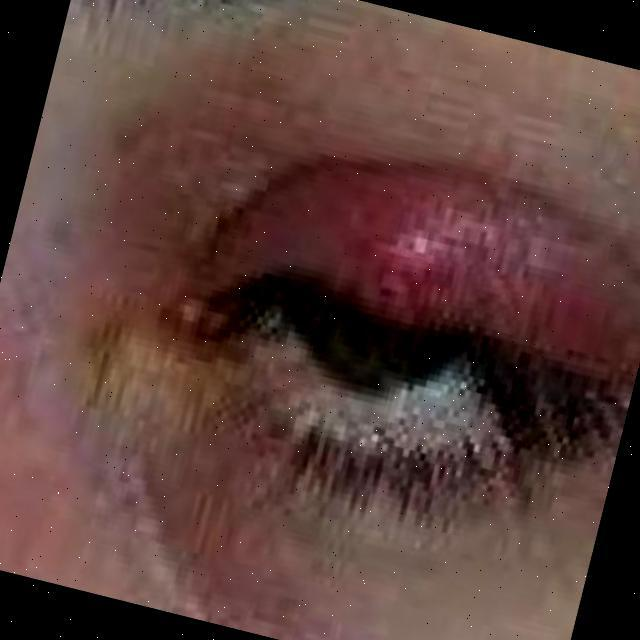Stye: (304, 148, 591, 360)
